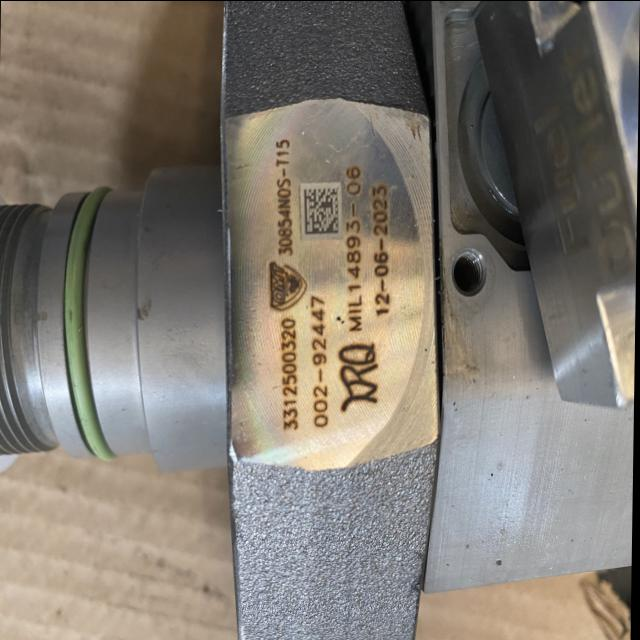dmc: (304, 188, 338, 234)
